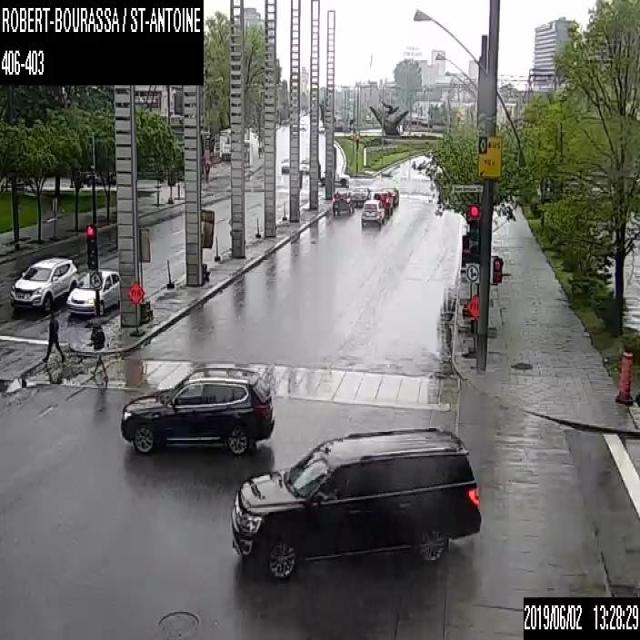construction: (137, 226, 153, 323), (126, 279, 144, 335), (201, 207, 214, 279), (616, 348, 632, 403), (466, 292, 479, 357)
pedestrian: (41, 310, 64, 362), (89, 320, 108, 379)
vehicle: (229, 426, 481, 578), (119, 366, 275, 458), (8, 254, 78, 310), (67, 264, 119, 315), (332, 186, 371, 215), (360, 198, 384, 226), (372, 190, 393, 218), (320, 168, 348, 185), (378, 185, 399, 205), (280, 156, 289, 172), (299, 157, 309, 171), (317, 126, 324, 132), (299, 122, 305, 128)
